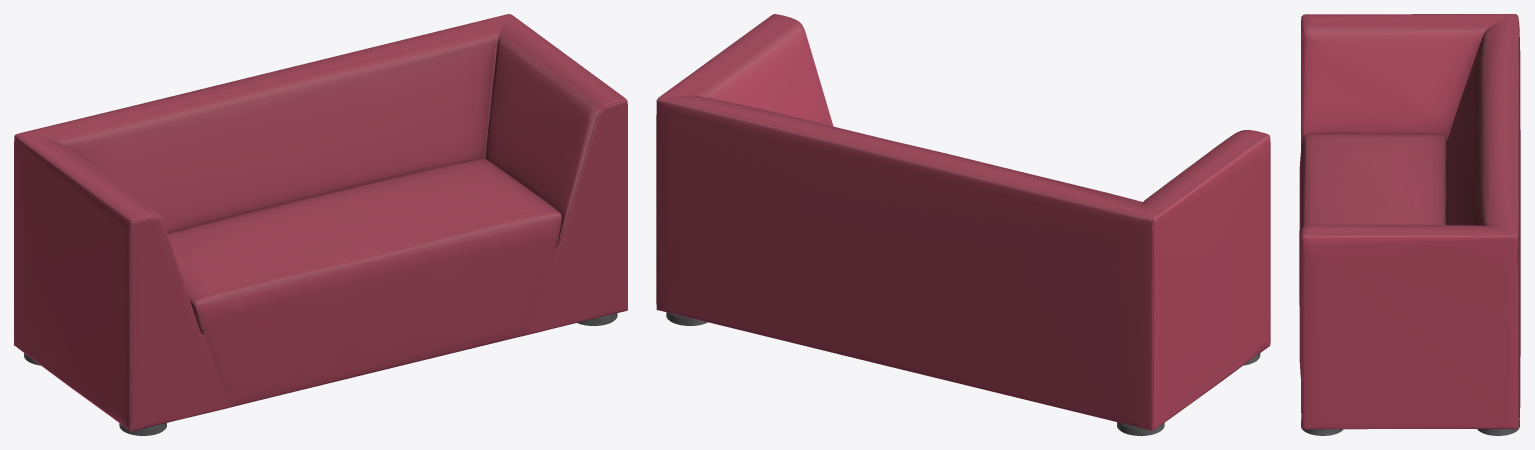
The model's file is raw_model.obj.
3 renders of one model, left to right at view 1: azimuth 30°, elevation 25°; view 2: azimuth 150°, elevation 25°; view 3: azimuth 270°, elevation 25°, orthographic. The views are drawn at different scales.
Visible parts, largest first — view 1: solid_001, solid_002; view 2: solid_001, solid_002; view 3: solid_001, solid_002.
Part boxes in pixels (box(x1,y1,x2,y2)): solid_001: box(14, 14, 627, 431); solid_002: box(24, 313, 617, 435); solid_001: box(656, 14, 1270, 431); solid_002: box(666, 312, 1260, 435); solid_001: box(1299, 14, 1520, 429); solid_002: box(1301, 419, 1519, 435).
Bounding box in the file's own units: 1.82 × 0.7645 × 0.7558.
1 material, 1 textured.
